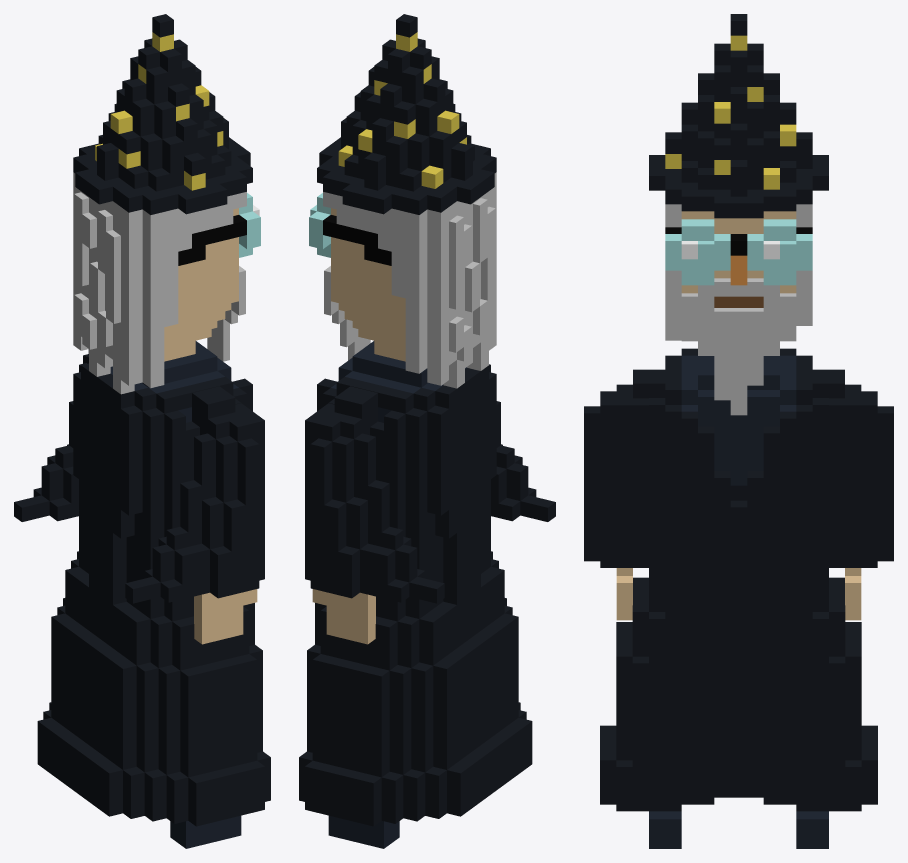
The model's file is Little Man New No Anim.fbx.
3 renders of one model, left to right at view 1: azimuth 30°, elevation 25°; view 2: azimuth 150°, elevation 25°; view 3: azimuth 270°, elevation 25°, orthographic. The views are drawn at different scales.
Parts seen in each view (by area): view 1: Cube.003, Cube, Cube.005, Cube.004, Cube.001, Cube.002; view 2: Cube.003, Cube, Cube.005, Cube.004, Cube.001, Cube.002; view 3: Cube.003, Cube, Cube.004, Cube.005, Cube.002, Cube.001.
Boxes of the visible parts, bbox=[...] form: Cube.003: bbox=[37, 538, 270, 848]; Cube: bbox=[73, 14, 260, 361]; Cube.005: bbox=[14, 349, 264, 644]; Cube.004: bbox=[73, 354, 252, 604]; Cube.001: bbox=[73, 172, 246, 394]; Cube.002: bbox=[110, 341, 238, 422]; Cube.003: bbox=[299, 538, 532, 848]; Cube: bbox=[309, 14, 496, 361]; Cube.005: bbox=[305, 386, 555, 644]; Cube.004: bbox=[317, 364, 496, 604]; Cube.001: bbox=[323, 172, 496, 388]; Cube.002: bbox=[331, 341, 466, 422]; Cube.003: bbox=[600, 577, 877, 848]; Cube: bbox=[649, 14, 828, 415]; Cube.004: bbox=[649, 348, 828, 589]; Cube.005: bbox=[584, 369, 893, 620]; Cube.002: bbox=[681, 355, 796, 485]; Cube.001: bbox=[665, 204, 812, 340].
Size of the model in its own units: 300 by 1375 by 474.
